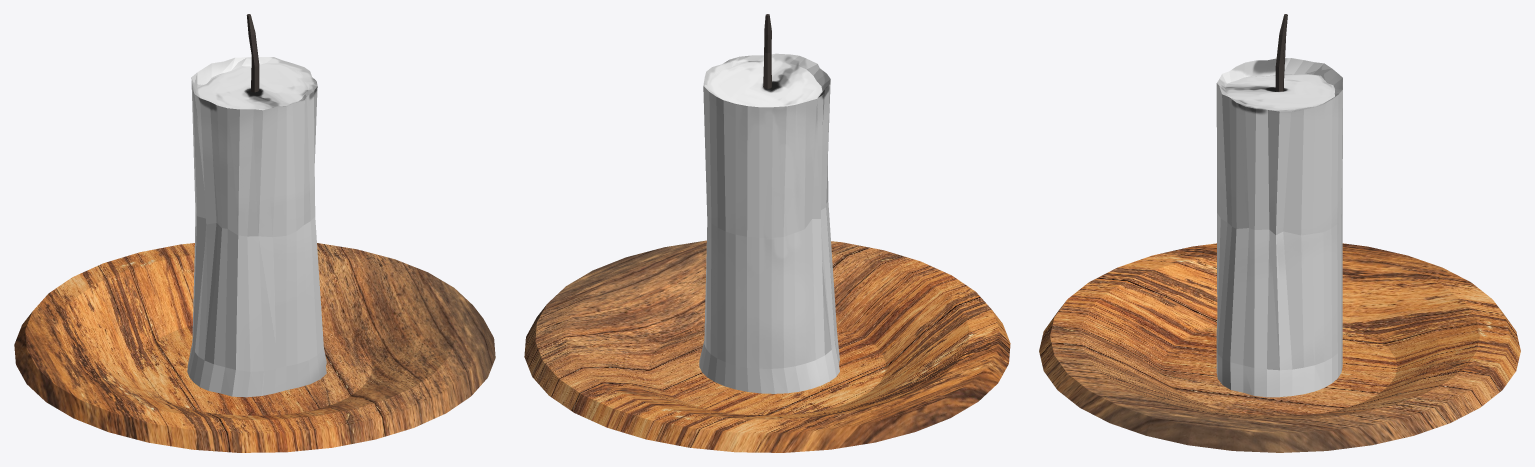
The model's file is candle.glb.
The picture shows the model from 3 angles, left to right: view 1: azimuth 30°, elevation 25°; view 2: azimuth 150°, elevation 25°; view 3: azimuth 270°, elevation 25°; orthographic projection.
Parts seen in each view (by area): view 1: dish, chandelle, wick; view 2: dish, chandelle, wick; view 3: dish, chandelle, wick.
Boxes of the visible parts, x1,y1,x2,y2 form: dish: (14, 243, 495, 452); chandelle: (187, 57, 326, 397); wick: (246, 14, 259, 92); dish: (524, 240, 1010, 452); chandelle: (699, 53, 839, 393); wick: (763, 14, 771, 88); dish: (1039, 243, 1520, 452); chandelle: (1216, 58, 1342, 397); wick: (1275, 14, 1287, 91).
Bounding box in the file's own units: 0.2 × 0.1651 × 0.2.
Materials: 3 (2 with a texture image).
